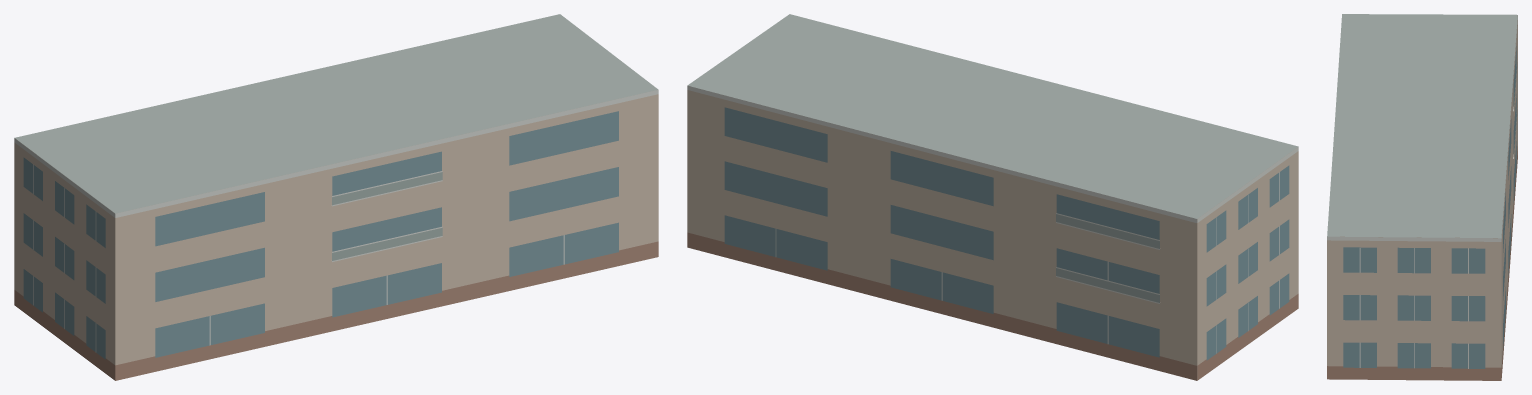
File: survey-upis-33002740.glb
3 renders of one model, left to right at view 1: azimuth 30°, elevation 25°; view 2: azimuth 150°, elevation 25°; view 3: azimuth 270°, elevation 25°, orthographic. The views are drawn at different scales.
Parts seen in each view (by area): view 1: survey-upis-33002740.tmp; view 2: survey-upis-33002740.tmp; view 3: survey-upis-33002740.tmp.
Part boxes in pixels (x1,y1,x2,y2): survey-upis-33002740.tmp: (14,14,658,380); survey-upis-33002740.tmp: (687,14,1298,380); survey-upis-33002740.tmp: (1327,14,1517,380).
Size of the model in its own units: 30.82 by 9.15 by 11.09.
